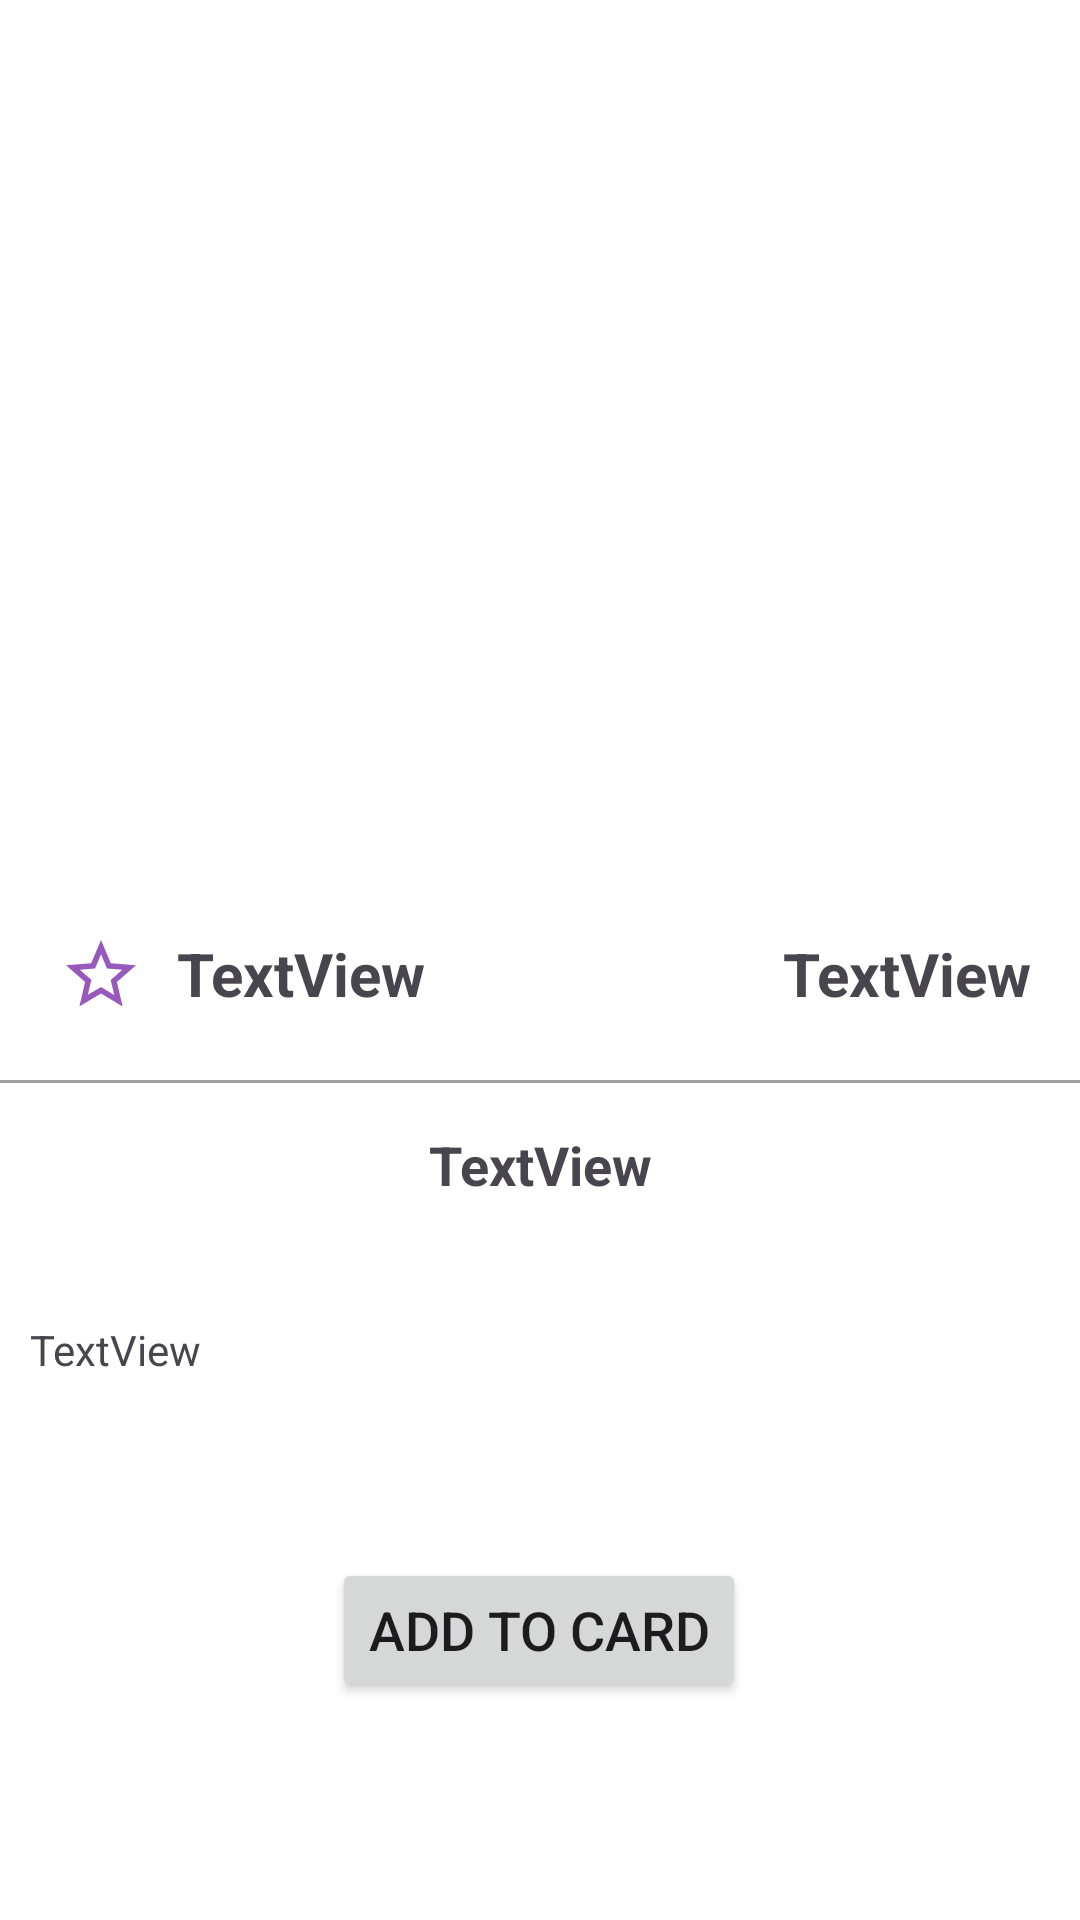

Where to tap for icons on this 1080 × 1920 app screen, as (x=x, y=y):
star: (x=101, y=973)
